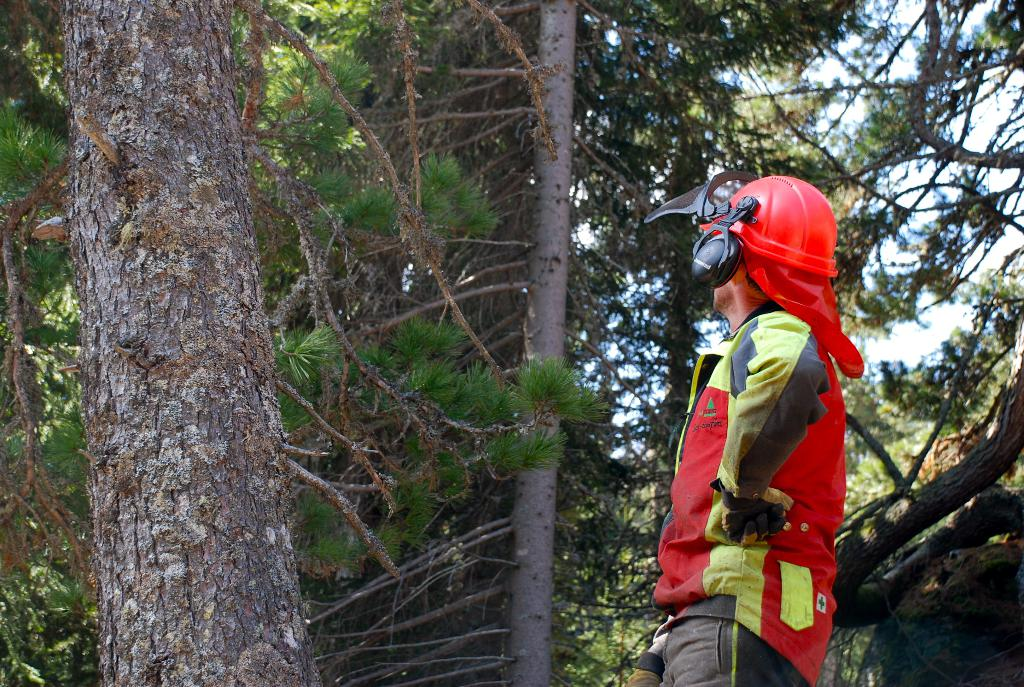Person: (627, 170, 864, 687)
